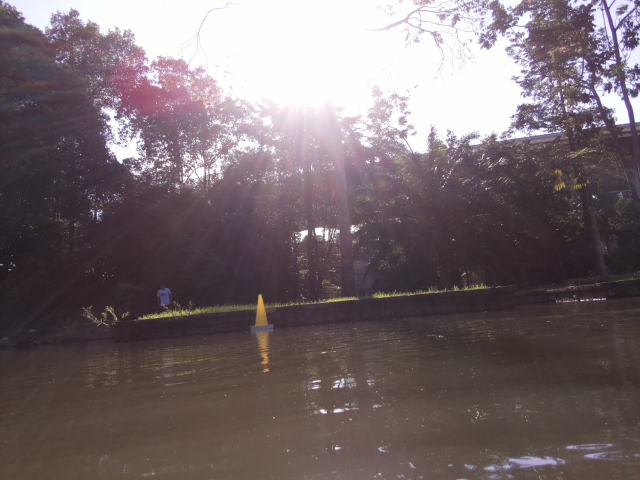checkpoint: (250, 292, 274, 331)
